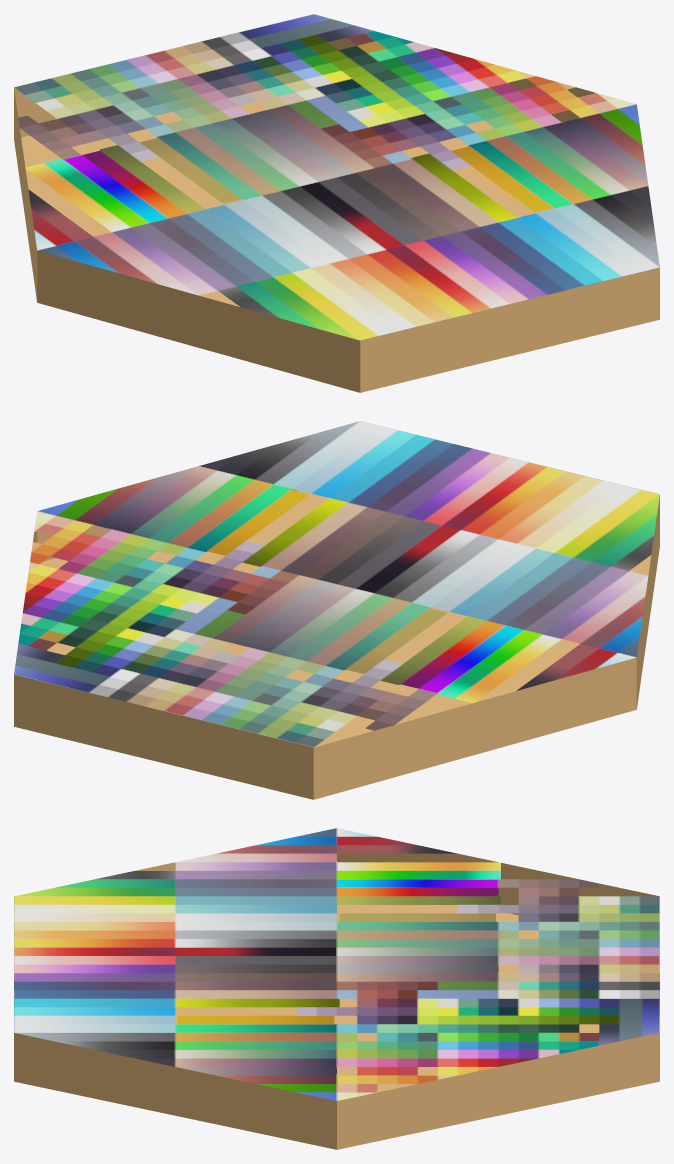
File: WoodFloor.fbx
3 views of the same model, one above another, from view 1: azimuth 30°, elevation 25°; view 2: azimuth 150°, elevation 25°; view 3: azimuth 270°, elevation 25° (orthographic). The views are drawn at different scales.
Visible parts, largest first — view 1: WoodFloor; view 2: WoodFloor; view 3: WoodFloor.
Boxes of the visible parts, box(x1,y1,x2,y2) form: WoodFloor: box(14, 14, 659, 392); WoodFloor: box(14, 421, 659, 799); WoodFloor: box(14, 828, 659, 1149).
Size of the model in its own units: 1200 by 100 by 1200.
